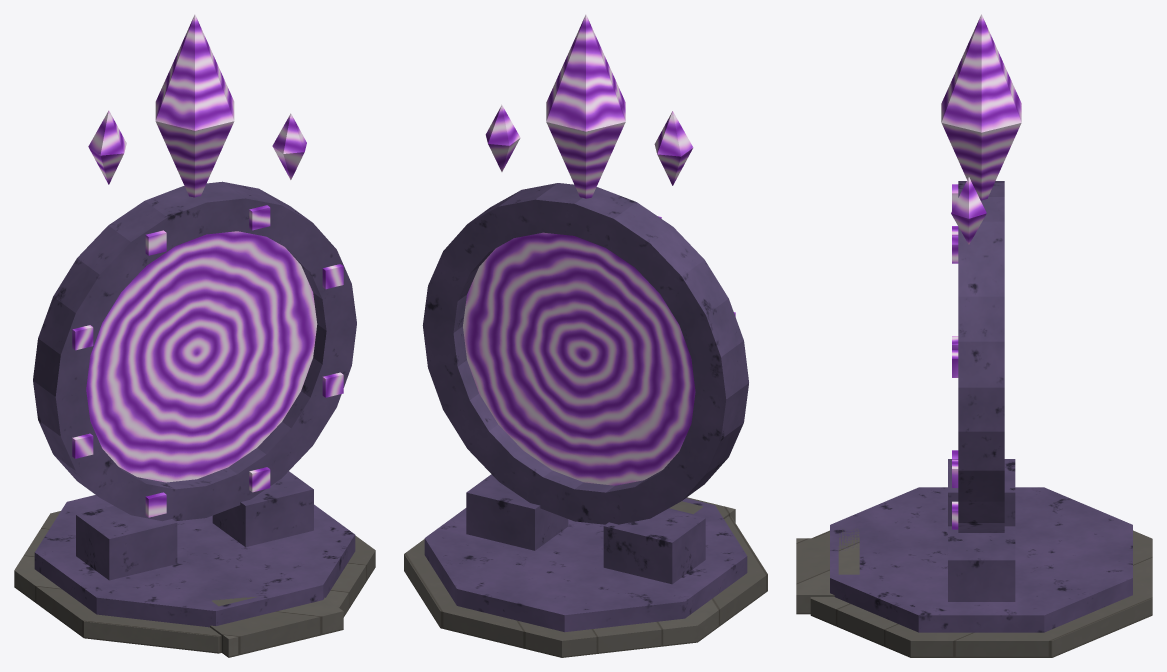
File: 상점_다른세계강화소.fbx
The picture shows the model from 3 angles, left to right: view 1: azimuth 30°, elevation 25°; view 2: azimuth 150°, elevation 25°; view 3: azimuth 270°, elevation 25°; orthographic projection.
Visible parts, largest first — view 1: 상점_다른세계강화소; view 2: 상점_다른세계강화소; view 3: 상점_다른세계강화소.
Part boxes in pixels (x1,y1,x2,y2): 상점_다른세계강화소: (14, 14, 375, 657); 상점_다른세계강화소: (404, 14, 767, 657); 상점_다른세계강화소: (796, 14, 1152, 657).
Size of the model in its own units: 840 by 1500 by 847.
Materials: 3 (3 with a texture image).
